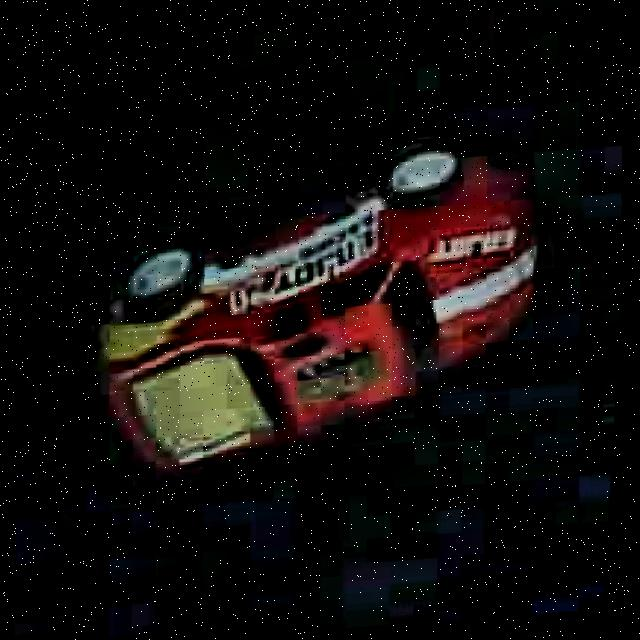car: (75, 131, 563, 486)
